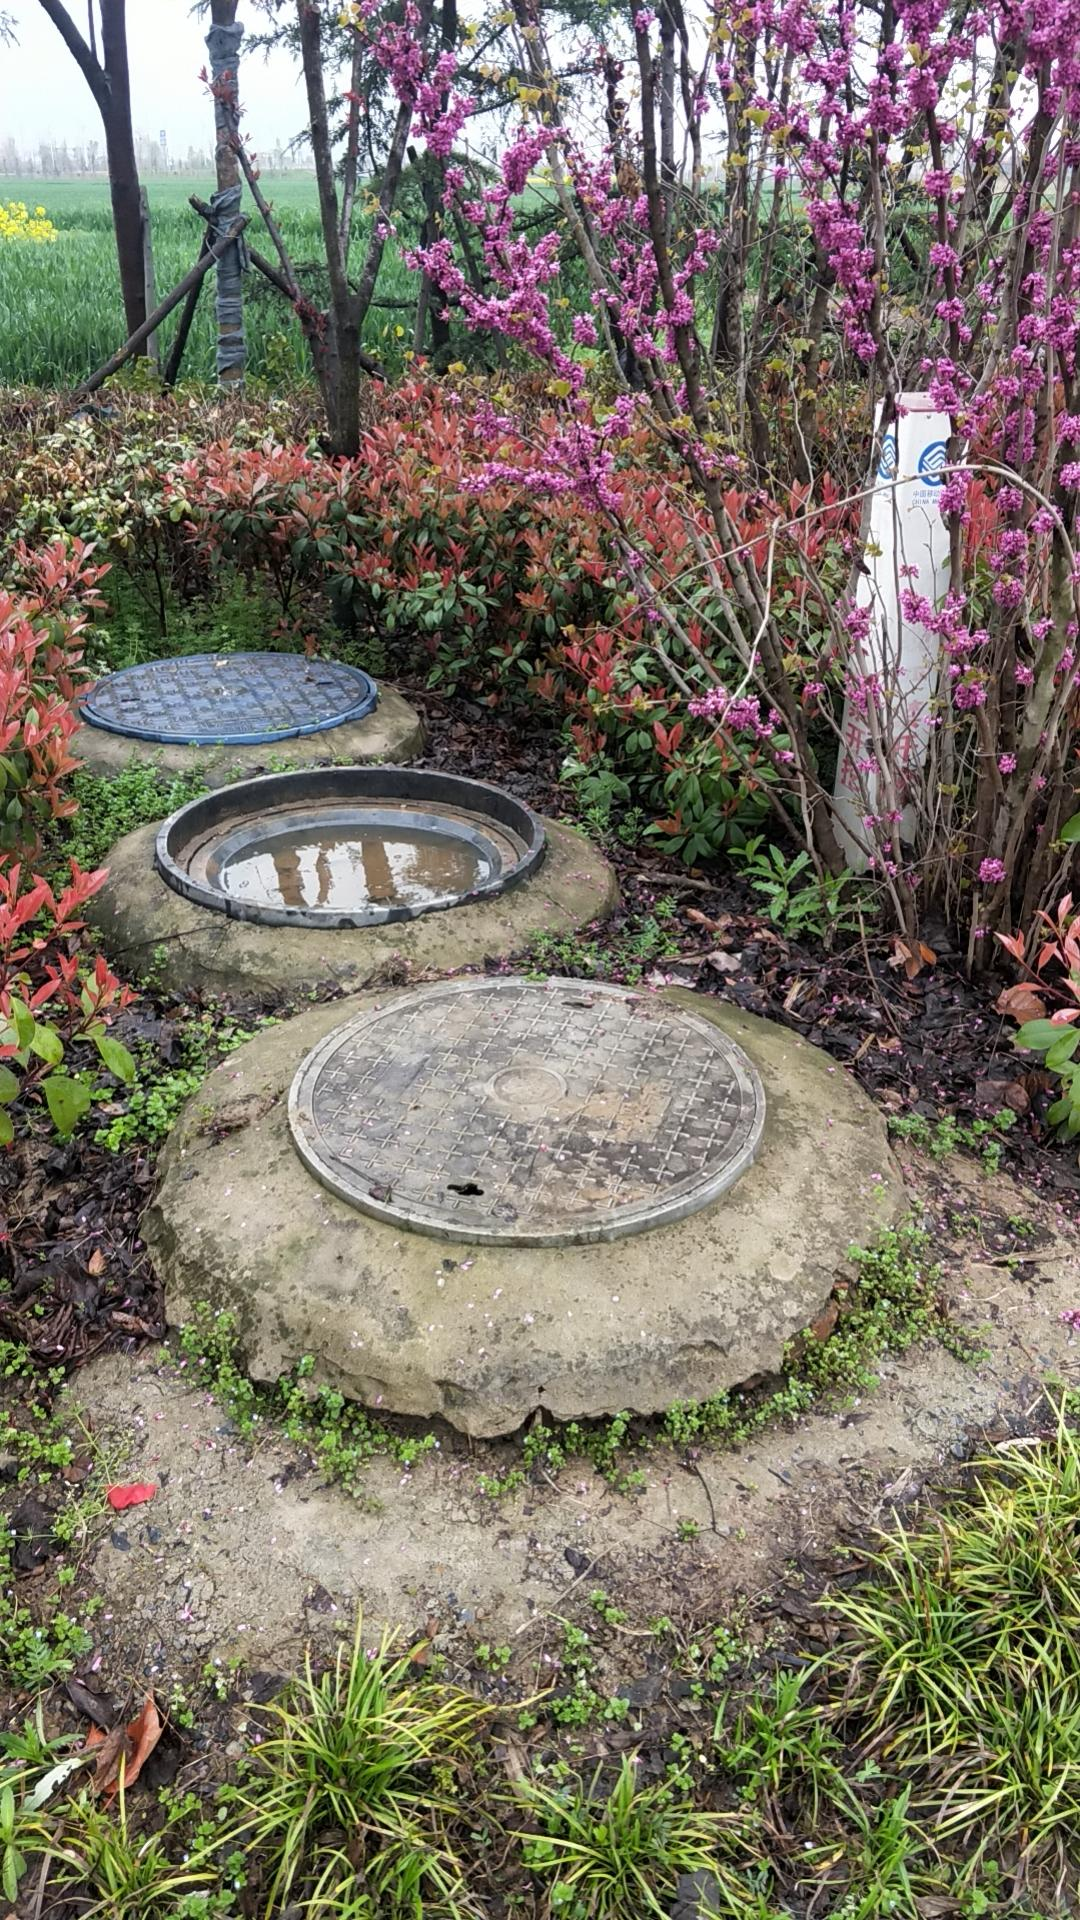wellcover: (276, 980, 750, 1261), (135, 752, 564, 934), (88, 625, 404, 762)
